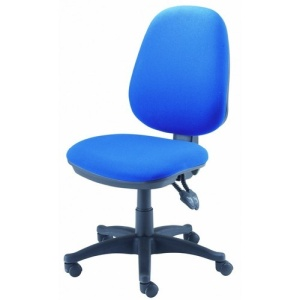chair: (63, 6, 234, 298)
